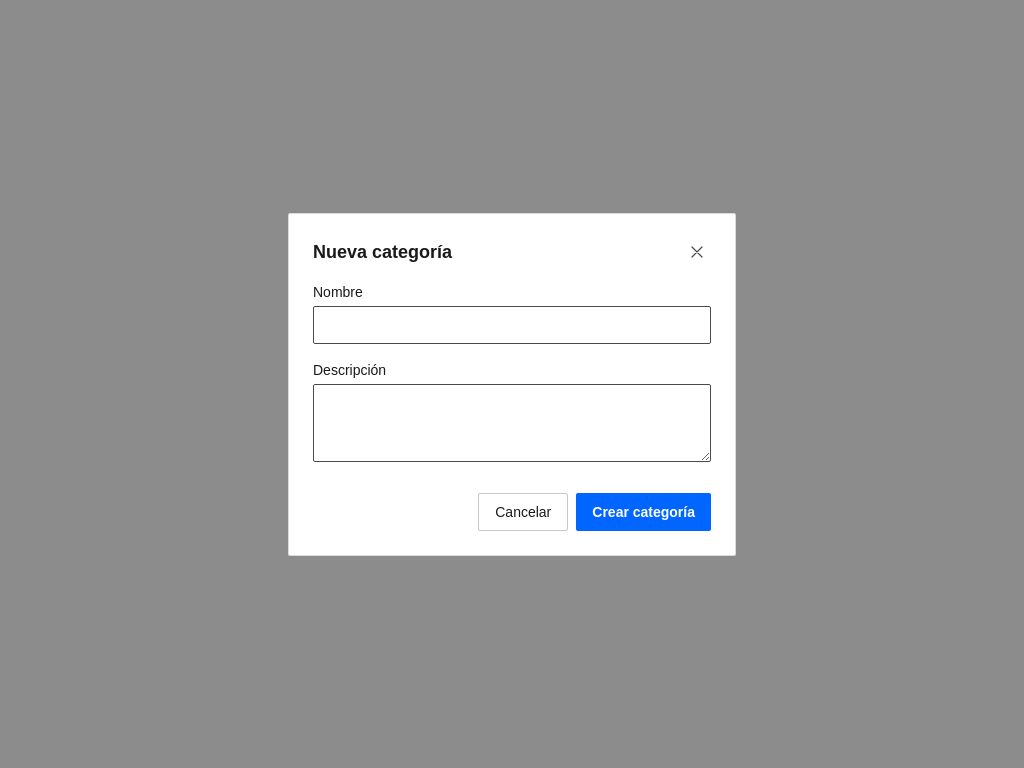
CategoryForm › shows validation errors and does not submit when the name is empty
The width and height of the screenshot is (1024, 768).
Expected: the field labelled "Nombre" is shown, [313, 306, 711, 344]
Step 1. Click the button "Crear categoría" → (644, 512), box [576, 492, 711, 530]
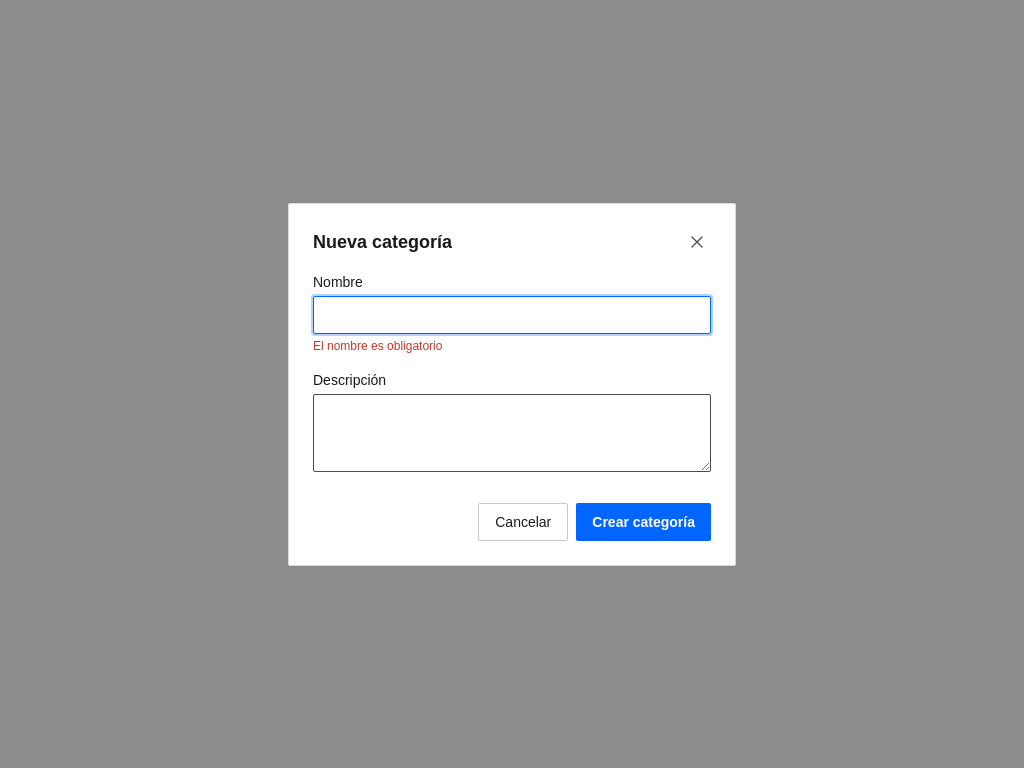
Expected: the text "El nombre es obligatorio" is shown, [313, 338, 442, 352]
